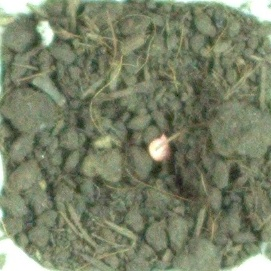pepper seed: (61, 52, 233, 213)
